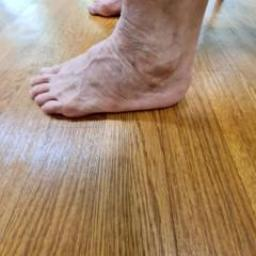Lateral View -Left Foot-: (17, 20, 208, 134)
